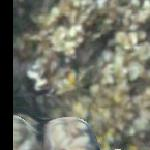alive: (12, 1, 147, 148)
